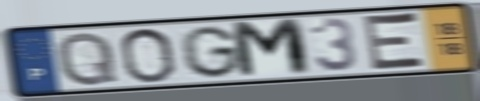3: (306, 16, 359, 74)
E: (361, 10, 430, 73)
G: (177, 24, 243, 80)
M: (227, 17, 316, 81)
O: (117, 26, 178, 85)
Q: (55, 30, 121, 89)
